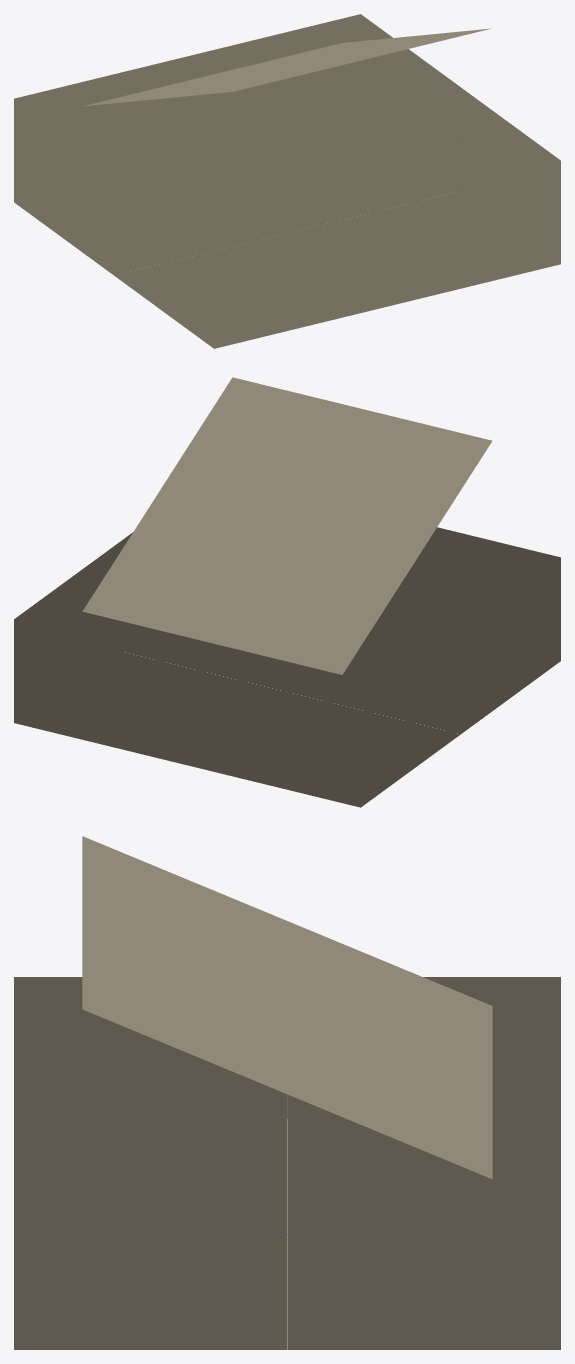
File: trap_t4_buried_mine.glb
The picture shows the model from 3 angles, top to bottom: view 1: azimuth 30°, elevation 25°; view 2: azimuth 150°, elevation 25°; view 3: azimuth 270°, elevation 25°; orthographic projection. The views are drawn at different scales.
Visible parts, largest first — view 1: trap_t4_buried_mine; view 2: trap_t4_buried_mine; view 3: trap_t4_buried_mine.
Boxes of the visible parts, box(x1,y1,x2,y2) form: trap_t4_buried_mine: box(14, 14, 560, 348); trap_t4_buried_mine: box(14, 377, 560, 807); trap_t4_buried_mine: box(14, 836, 560, 1349).
Size of the model in its own units: 0.28 by 0.176 by 0.28.
